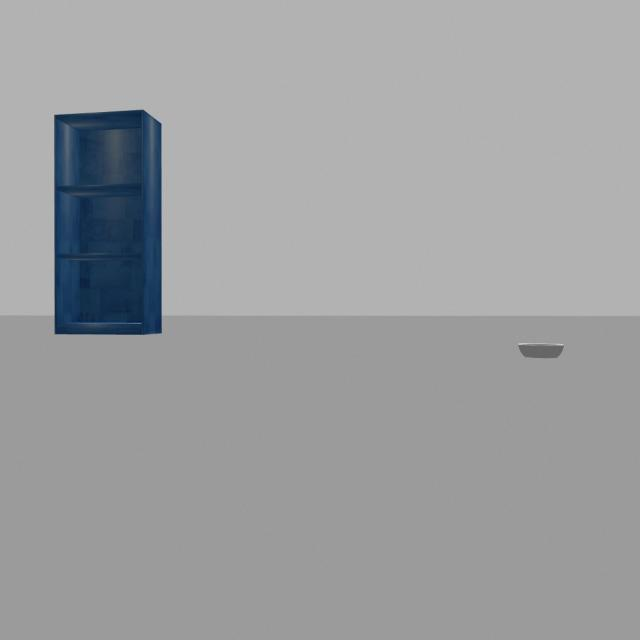bowl: (514, 328, 566, 370)
shelf: (45, 94, 173, 346)
